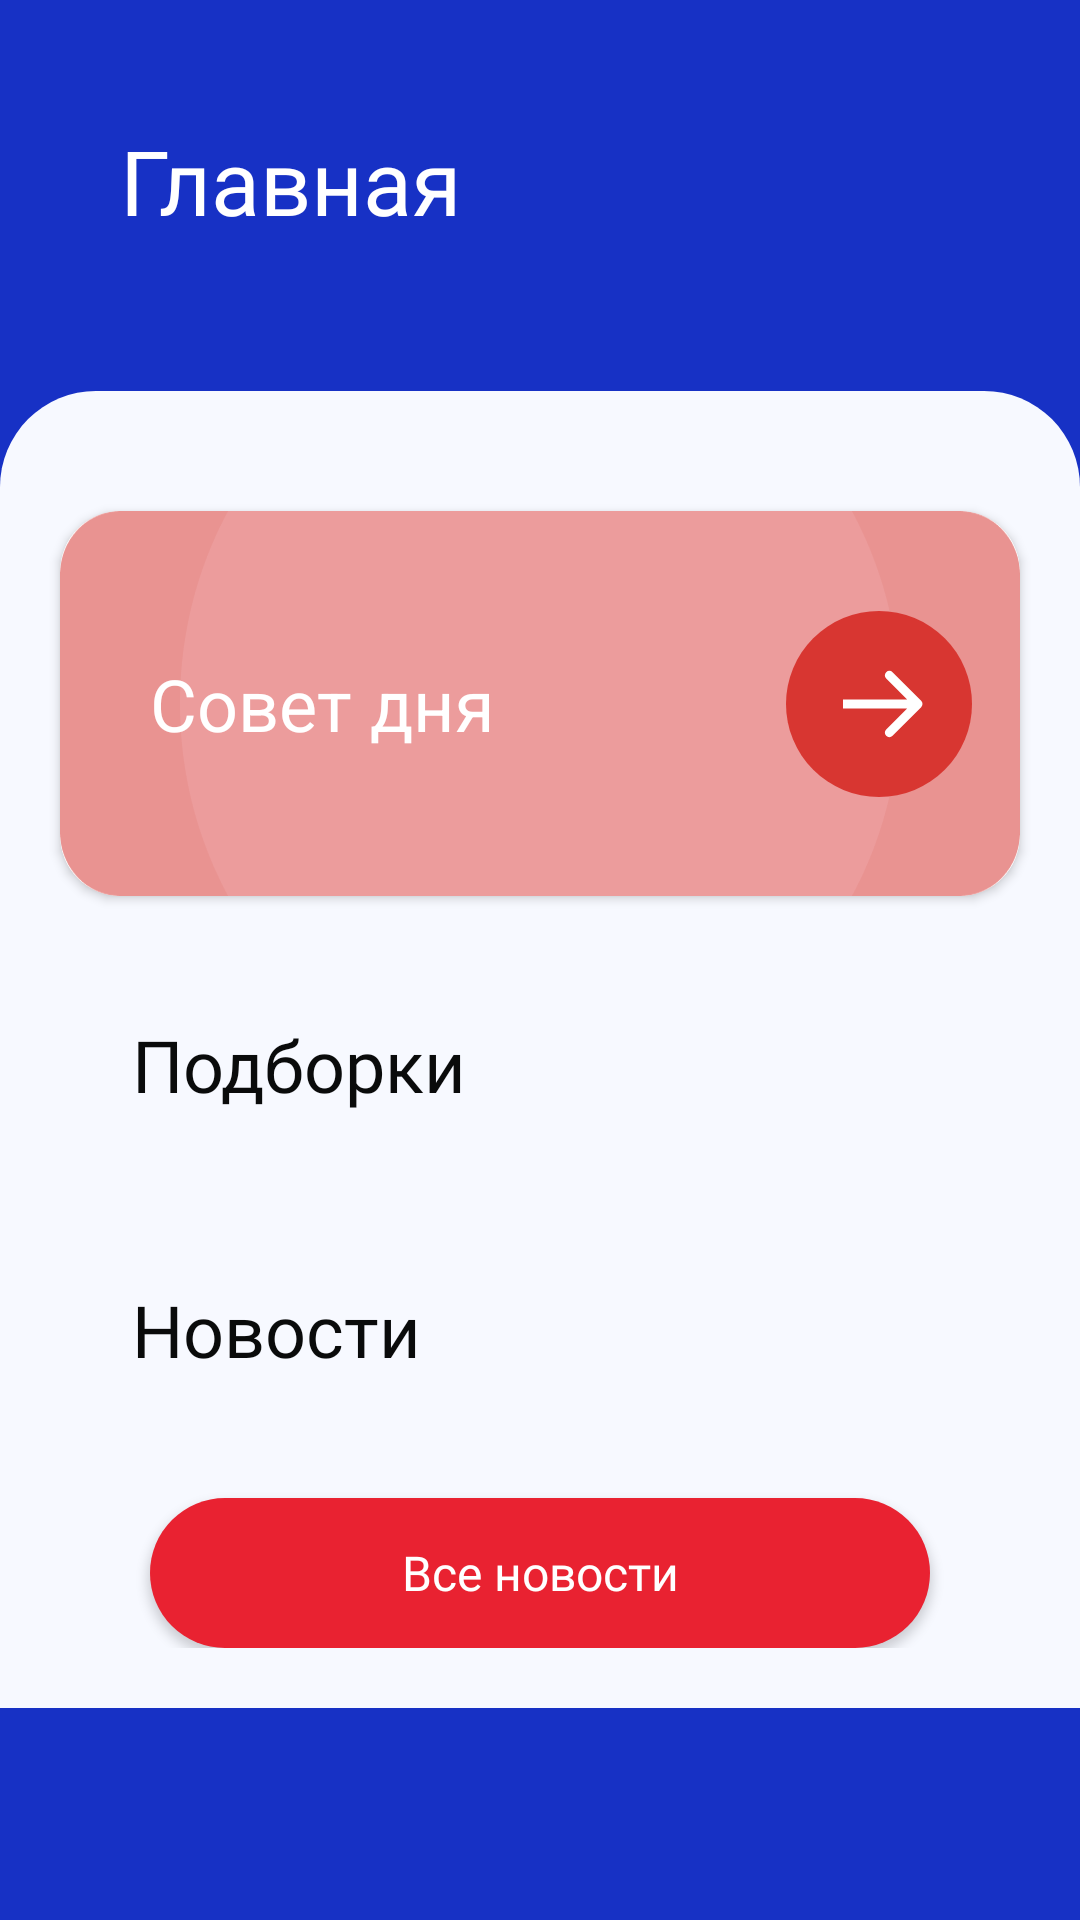

Where icons sit on this 1080×1920 app screen, as [left=x1, top=y1, right=x2, bottom=y2]:
arrow: [left=786, top=611, right=972, bottom=797]
